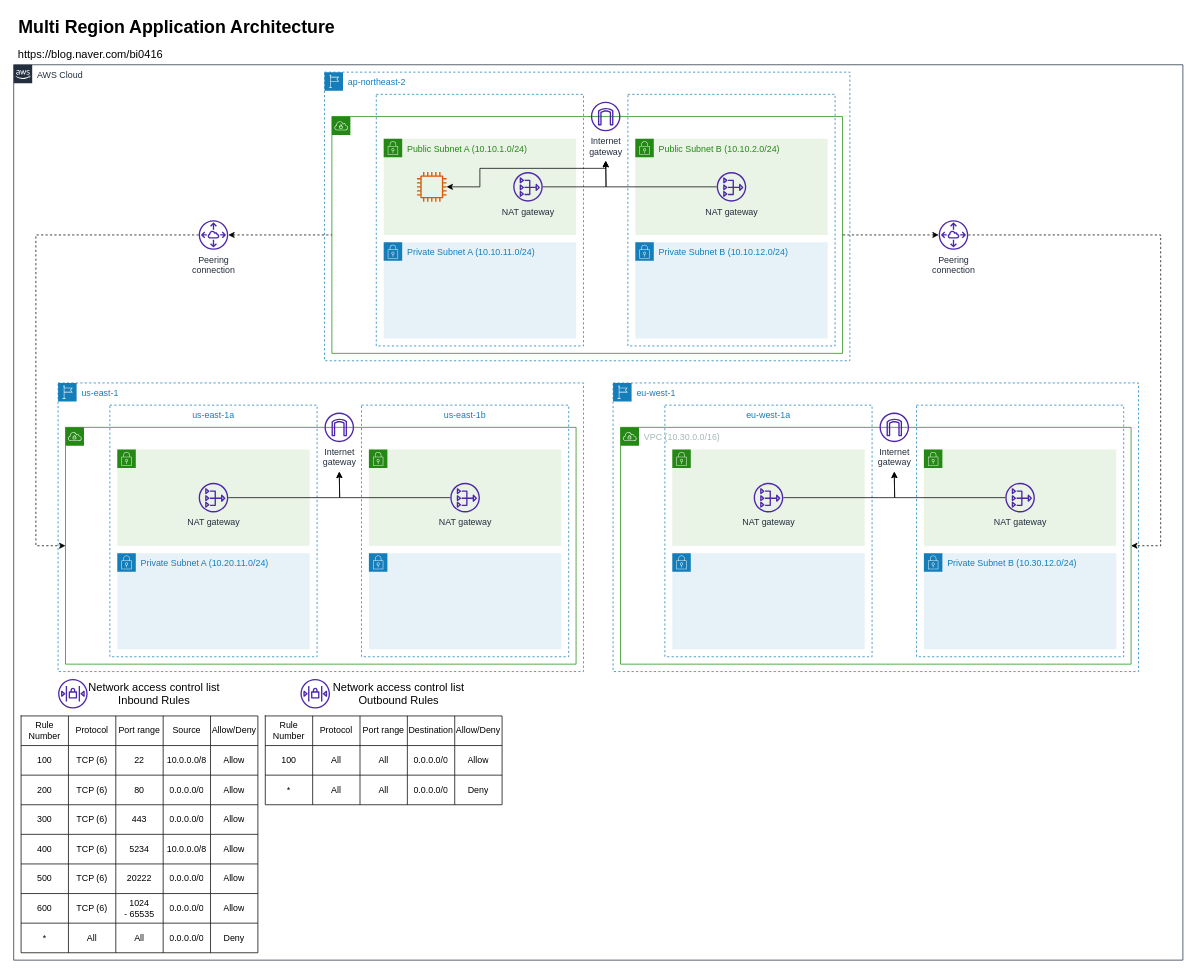
Image size: 1196x973. Some labels were removed from this diagram. The box of each missing label's shape, as (x1, y1, x2, y2) in pixels:
ap-northeast-2a: (376, 94, 583, 346)
ap-northeast-2b: (627, 94, 835, 346)
Bastion instance: (417, 172, 446, 201)
eu-west-1b: (916, 404, 1124, 657)
Private Subnet A (10.30.11.0/24): (672, 552, 865, 649)
Private Subnet B (10.20.12.0/24): (368, 552, 561, 649)
Public Subnet A (10.20.1.0/24): (117, 449, 310, 546)
Public Subnet A (10.30.1.0/24): (672, 449, 865, 546)
Public Subnet B (10.20.2.0/24): (368, 449, 561, 546)
Public Subnet B (10.30.2.0/24): (923, 449, 1116, 546)
VPC (10.10.0.0/16): (331, 116, 842, 353)
VPC (10.20.0.0/16): (65, 427, 576, 664)
